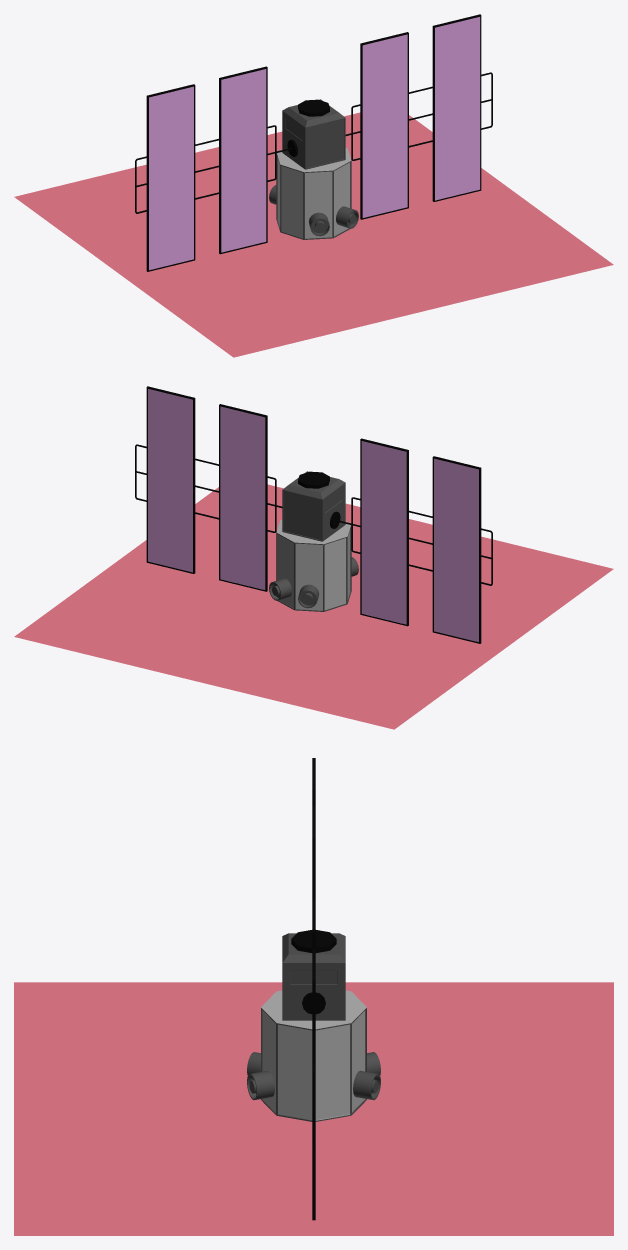
The model's file is satellite1_pink.fbx.
3 renders of one model, top to bottom at view 1: azimuth 30°, elevation 25°; view 2: azimuth 150°, elevation 25°; view 3: azimuth 270°, elevation 25°, orthographic. The views are drawn at different scales.
Visible parts, largest first — view 1: ght_ght, pCube7, pCube6, pCube4, pCube8, pCylinder5, pCube3, pCylinder3; view 2: ght_ght, pCube7, pCube6, pCube4, pCube8, pCylinder5, pCube3, pCylinder3; view 3: ght_ght, pCylinder5, pCube3, pCube7, pCylinder3, pCylinder8, pCylinder12.
Boxes of the visible parts, x1,y1,x2,y2 form: ght_ght: (14,112,613,357); pCube7: (432,14,481,201); pCube6: (146,84,195,271); pCube4: (219,66,267,254); pCube8: (360,32,408,219); pCylinder5: (276,147,351,239); pCube3: (282,99,345,169); pCylinder3: (298,99,329,116); ght_ght: (14,484,613,729); pCube7: (146,386,195,573); pCube6: (432,456,481,643); pCube4: (360,438,408,626); pCube8: (219,404,267,591); pCylinder5: (276,519,351,611); pCube3: (282,471,345,541); pCylinder3: (298,471,329,488); ght_ght: (14,982,613,1235); pCylinder5: (261,990,366,1121); pCube3: (282,933,345,1020); pCube7: (312,949,315,1220); pCylinder3: (291,930,336,952); pCylinder8: (247,1070,274,1100); pCylinder12: (353,1070,380,1100).
Size of the model in its own units: 8 by 3.53 by 8.
